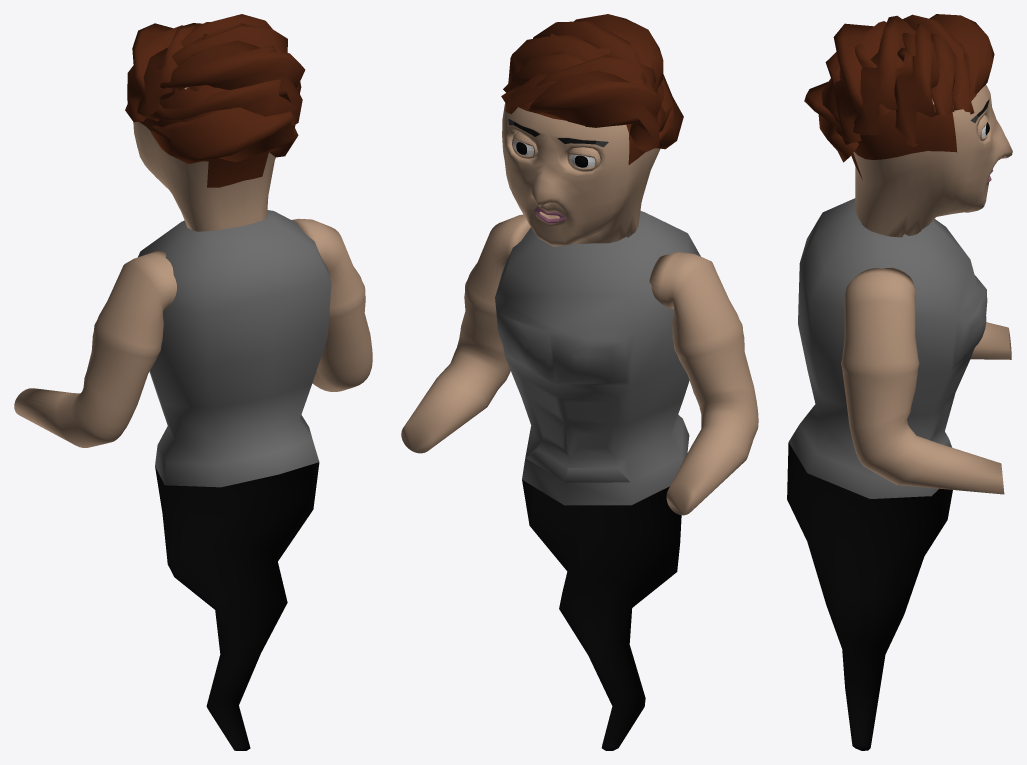
Rendered from ManuelBelgrano2.fbx.
3 renders of one model, left to right at view 1: azimuth 30°, elevation 25°; view 2: azimuth 150°, elevation 25°; view 3: azimuth 270°, elevation 25°, orthographic. The views are drawn at different scales.
Visible parts, largest first — view 1: Círculo, Cilindro, Cubo, Curva NURBS.002, Curva NURBS.004, Cilindro.001, Curva NURBS.001; view 2: Círculo, Cilindro, Cubo, Cilindro.001, Curva NURBS.001, Curva NURBS.004, Curva NURBS.002, Cubo.001; view 3: Círculo, Cilindro.001, Cubo, Curva NURBS.004, Curva NURBS.001, Curva NURBS.002, Cilindro.
Part boxes in pixels (bbox=[...]): Círculo: bbox=[138, 210, 331, 750]; Cilindro: bbox=[14, 251, 176, 447]; Cubo: bbox=[133, 85, 275, 231]; Curva NURBS.002: bbox=[145, 23, 298, 164]; Curva NURBS.004: bbox=[155, 14, 305, 125]; Cilindro.001: bbox=[292, 218, 372, 391]; Curva NURBS.001: bbox=[125, 23, 209, 122]; Círculo: bbox=[495, 211, 700, 750]; Cilindro: bbox=[649, 252, 758, 515]; Cubo: bbox=[502, 83, 663, 246]; Cilindro.001: bbox=[401, 214, 530, 453]; Curva NURBS.001: bbox=[528, 47, 665, 151]; Curva NURBS.004: bbox=[501, 14, 663, 113]; Curva NURBS.002: bbox=[550, 23, 683, 149]; Cubo.001: bbox=[567, 147, 600, 171]; Círculo: bbox=[787, 198, 987, 750]; Cilindro.001: bbox=[841, 267, 1004, 494]; Cubo: bbox=[851, 85, 1012, 237]; Curva NURBS.004: bbox=[833, 15, 974, 147]; Curva NURBS.001: bbox=[902, 14, 994, 94]; Curva NURBS.002: bbox=[804, 33, 915, 162]; Cilindro: bbox=[970, 322, 1011, 359].
Size of the model in its own units: 334 by 762 by 215.
